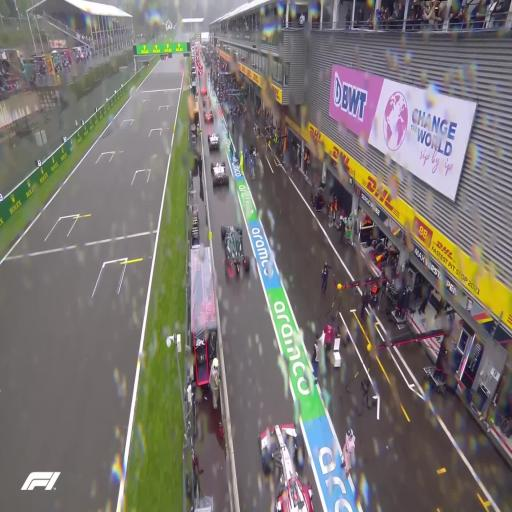f1_car: (258, 424, 313, 511), (221, 225, 250, 274), (211, 161, 228, 186), (208, 133, 219, 150), (204, 110, 213, 121), (198, 69, 203, 76), (196, 61, 201, 67), (198, 64, 203, 69), (196, 52, 200, 57), (196, 56, 200, 60), (196, 49, 199, 53)
